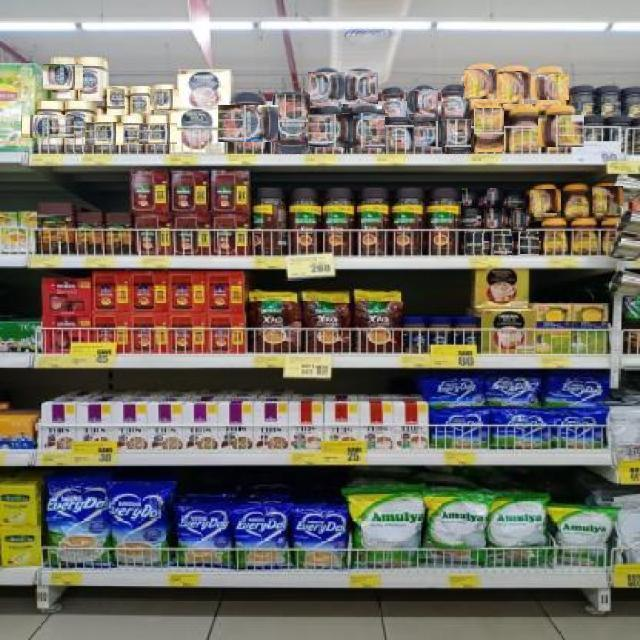Coffee: (272, 93, 310, 154), (217, 105, 278, 142), (342, 112, 389, 148), (538, 114, 584, 147), (308, 114, 353, 147), (508, 108, 541, 152), (473, 107, 504, 152), (496, 71, 537, 104), (464, 69, 506, 99), (22, 114, 74, 138), (342, 70, 378, 104), (65, 101, 89, 152), (307, 72, 345, 102), (42, 64, 83, 90), (385, 118, 414, 153), (532, 73, 569, 100), (444, 118, 471, 154), (542, 219, 568, 256), (410, 122, 447, 147), (79, 57, 101, 98), (563, 184, 589, 217), (438, 86, 465, 117), (592, 186, 623, 213), (85, 123, 123, 145), (573, 221, 598, 254), (408, 88, 438, 114), (138, 124, 177, 144), (529, 189, 561, 213), (112, 124, 149, 144), (383, 87, 405, 116), (150, 90, 179, 110), (107, 87, 125, 115), (131, 87, 149, 115), (466, 233, 487, 254), (520, 233, 539, 256), (483, 208, 502, 229), (493, 234, 512, 255), (458, 208, 480, 226), (461, 188, 478, 209), (511, 208, 526, 231), (486, 188, 503, 207), (507, 193, 526, 209)
